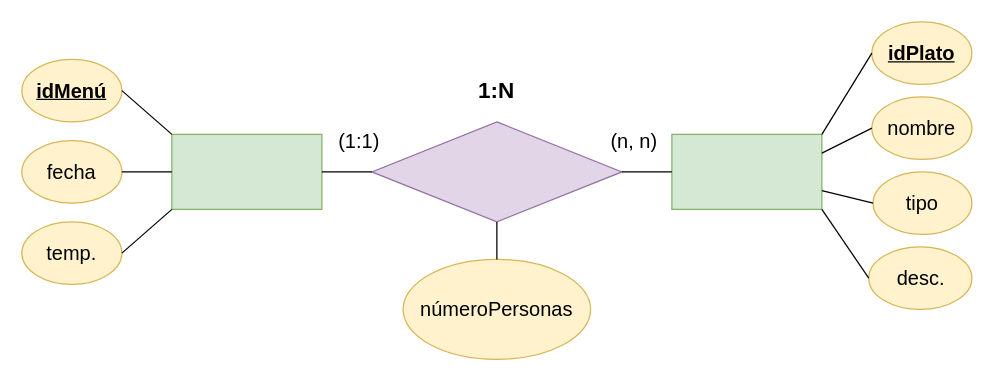
The diagram is 994 pixels wide and 381 high, and some of its shapes have lost their labels. Here are the shapes that lost their labels. From the top down, the box of each, then its label:
(171, 133, 322, 209): MENÚS
(371, 121, 622, 222): PREPARARSE
(671, 133, 822, 209): PLATOS
